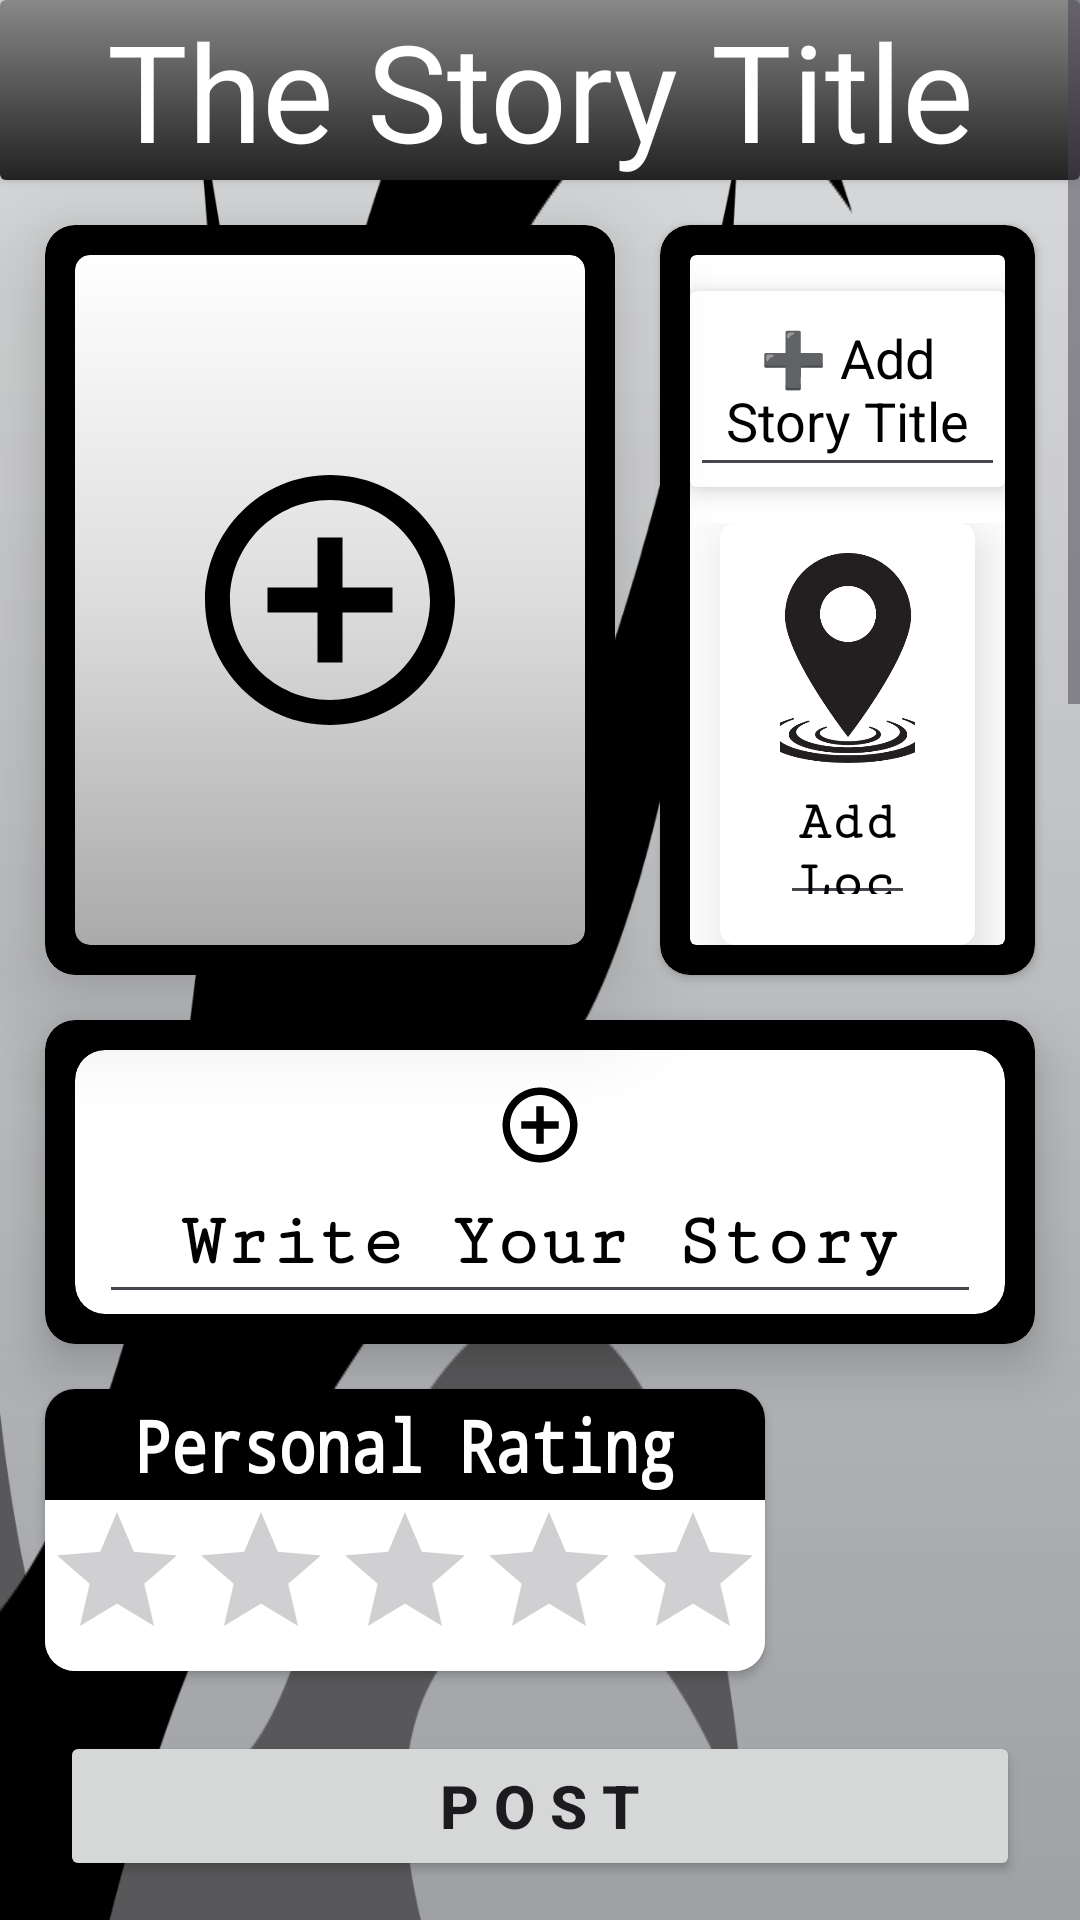

Named icons in this screenshot (1080px×1920px) and their centers, point (x, y):
add circle: point (330, 612), point (540, 1125)
